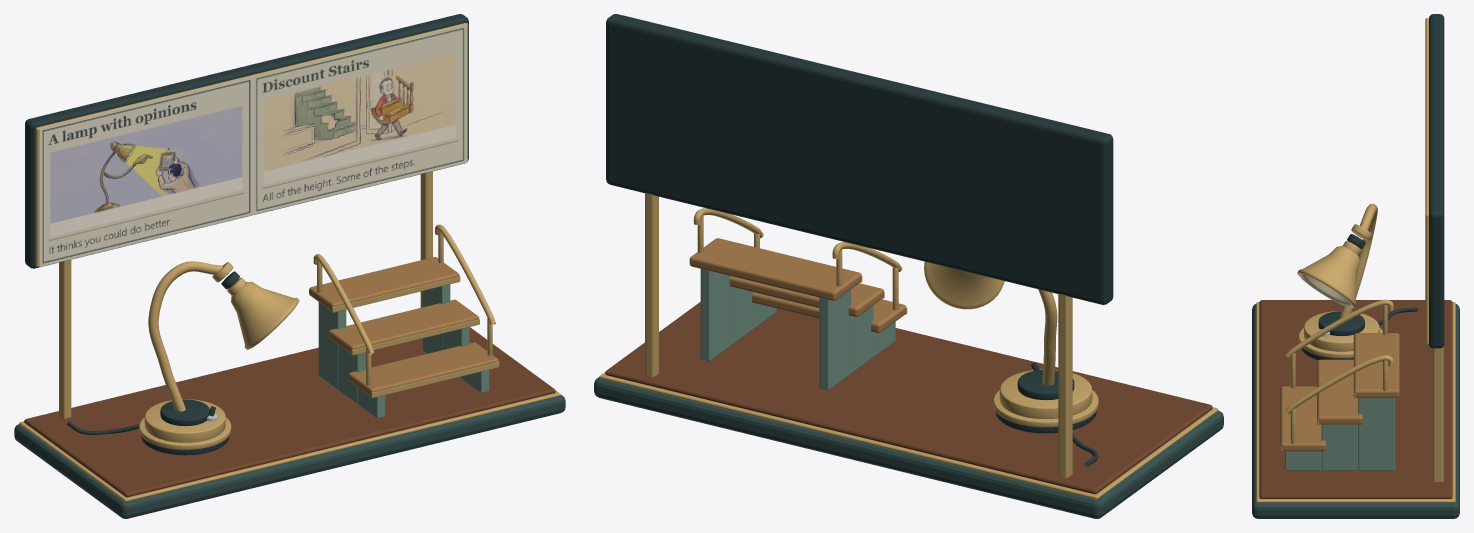
Rendered from guest-classifieds.glb.
The picture shows the model from 3 angles, left to right: view 1: azimuth 30°, elevation 25°; view 2: azimuth 150°, elevation 25°; view 3: azimuth 270°, elevation 25°; orthographic projection. The views are drawn at different scales.
Parts seen in each view (by area): view 1: guest_classifieds; view 2: guest_classifieds; view 3: guest_classifieds.
Boxes of the visible parts, left/top/right/bottom form: guest_classifieds: left=14, top=14, right=565, bottom=518; guest_classifieds: left=594, top=14, right=1223, bottom=518; guest_classifieds: left=1252, top=14, right=1459, bottom=518.
Size of the model in its own units: 1.18 by 0.8305 by 0.51.
Materials: 10 (1 with a texture image).
